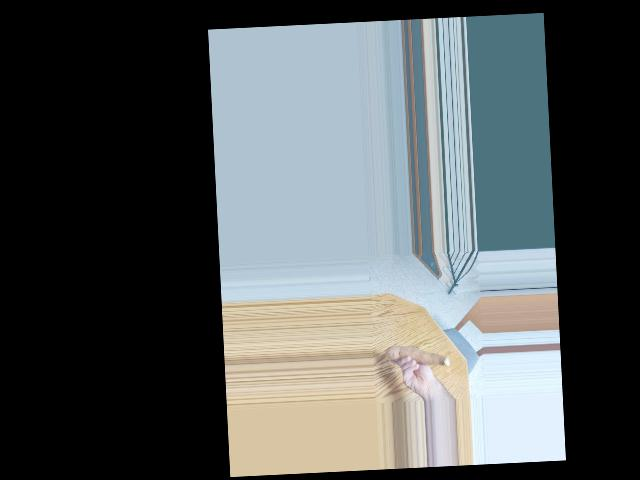sweet_potato: (388, 340, 447, 371)
